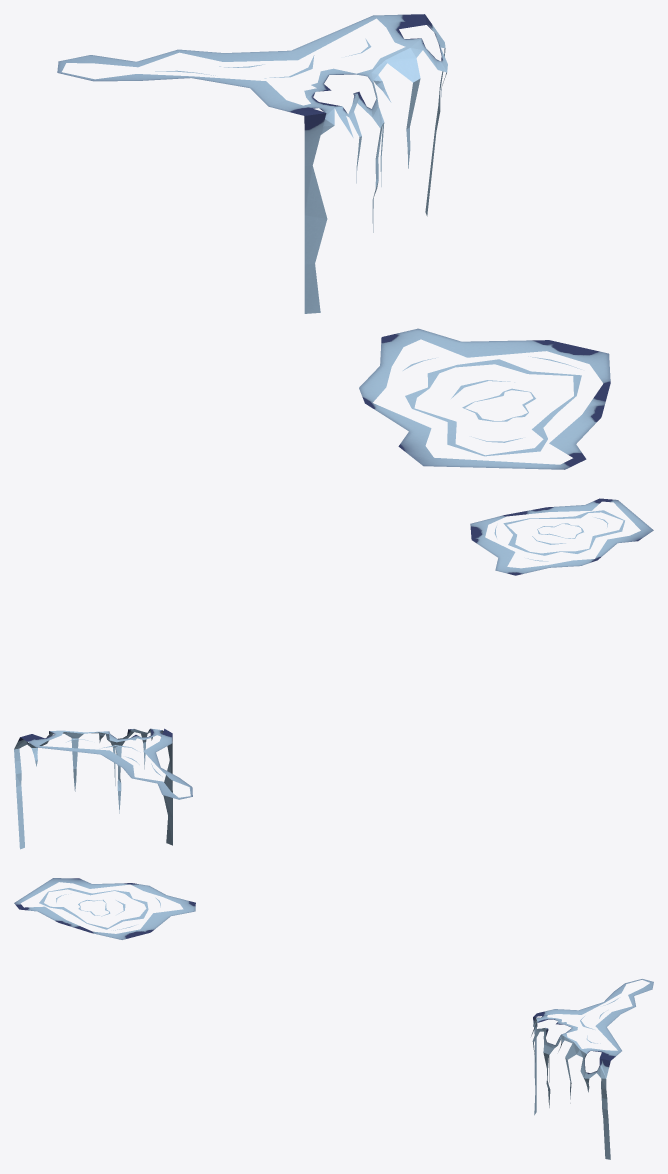
File: Water_02.FBX
3 views of the same model, one above another, from view 1: azimuth 30°, elevation 25°; view 2: azimuth 150°, elevation 25°; view 3: azimuth 270°, elevation 25° (orthographic). The views are drawn at different scales.
Visible parts, largest first — view 1: Water_02; view 2: Water_02; view 3: Water_02.
Boxes of the visible parts, left/top/right/bottom form: Water_02: left=57, top=14, right=610, bottom=469; Water_02: left=14, top=498, right=653, bottom=849; Water_02: left=14, top=878, right=653, bottom=1159.
Bounding box in the file's own units: 16.96 × 8.23 × 32.72.
